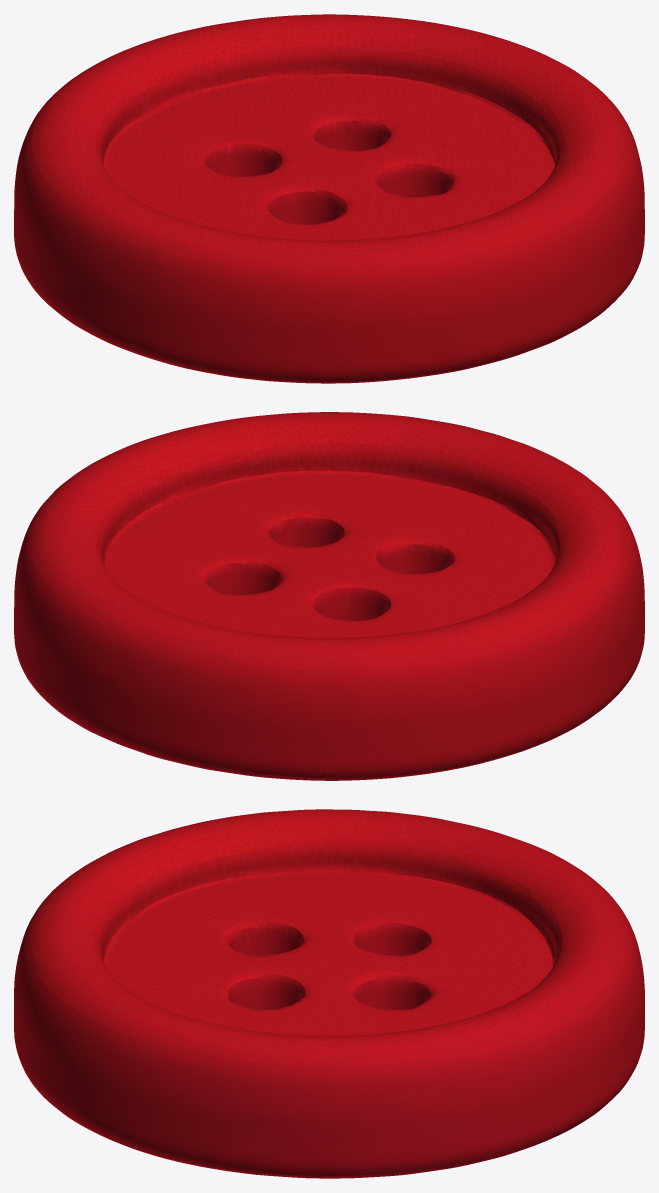
The model's file is button.glb.
The picture shows the model from 3 angles, top to bottom: view 1: azimuth 30°, elevation 25°; view 2: azimuth 150°, elevation 25°; view 3: azimuth 270°, elevation 25°; orthographic projection.
Visible parts, largest first — view 1: Mesh0; view 2: Mesh0; view 3: Mesh0.
Part boxes in pixels (left/top/right/bottom): Mesh0: left=14, top=14, right=644, bottom=383; Mesh0: left=14, top=412, right=644, bottom=780; Mesh0: left=14, top=809, right=644, bottom=1178.
Size of the model in its own units: 1.9 by 0.4261 by 1.9.
Materials: 1 (1 with a texture image).
